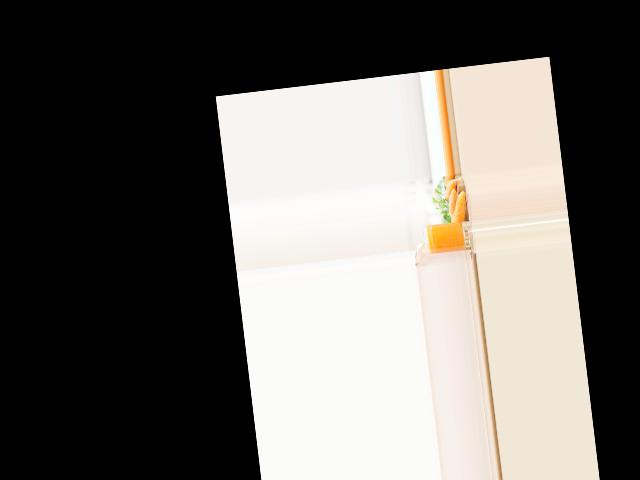carrot: (444, 179, 457, 205)
